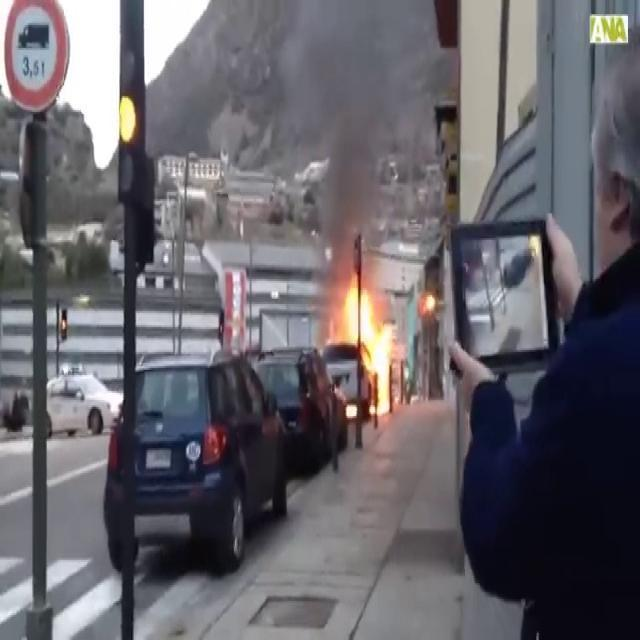Fire: (334, 266, 399, 416)
Smoke: (275, 0, 434, 261)
